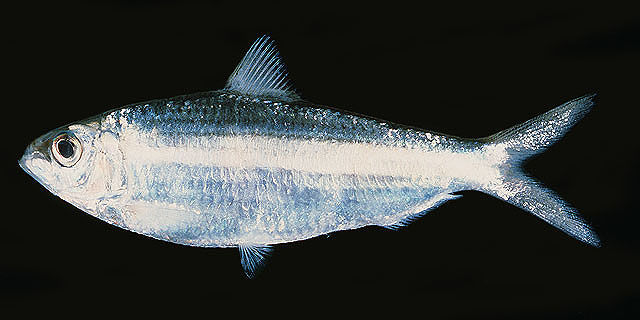fish: (18, 34, 602, 279)
